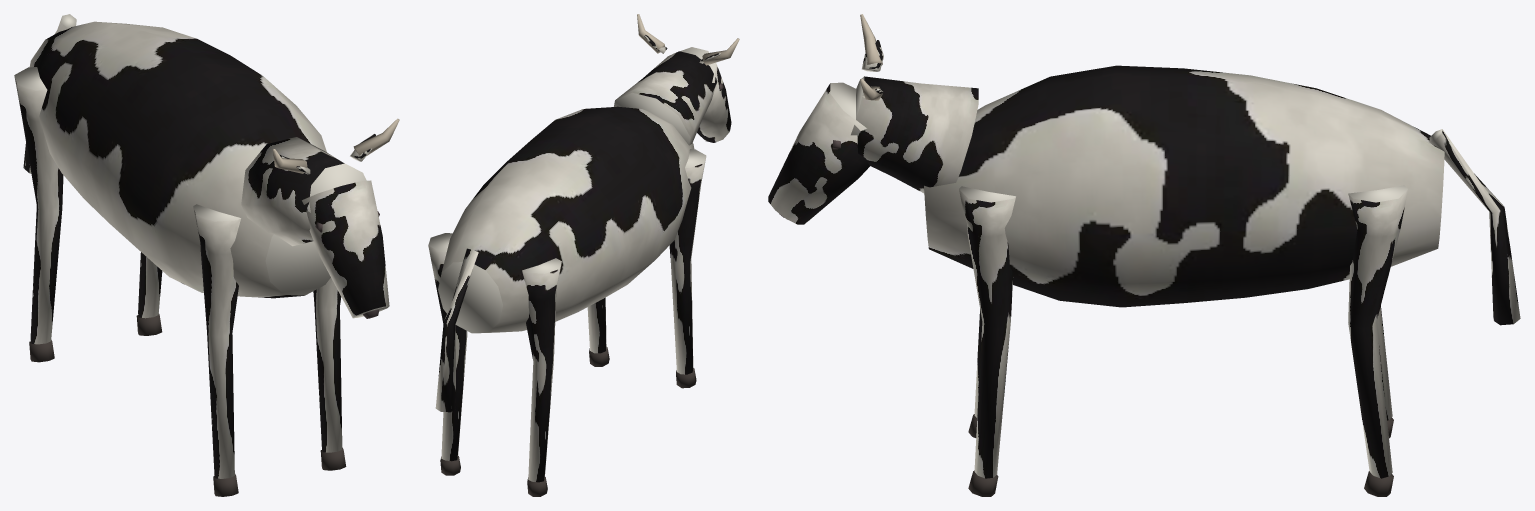
Rendered from cow.fbx.
3 views of the same model, side by side, from view 1: azimuth 30°, elevation 25°; view 2: azimuth 150°, elevation 25°; view 3: azimuth 270°, elevation 25° (orthographic). The views are drawn at different scales.
Visible parts, largest first — view 1: cow__body, cow__legFR, cow__legRR, cow__legFL, cow__legRL; view 2: cow__body, cow__legRR, cow__legFR, cow__legRL, cow__legFL; view 3: cow__body, cow__legRL, cow__legFL, cow__legRR.
Boxes of the visible parts, x1,y1,x2,y2 form: cow__body: [23, 14, 399, 318]; cow__legFR: [193, 204, 240, 496]; cow__legRR: [14, 67, 63, 362]; cow__legFL: [313, 278, 346, 470]; cow__legRL: [136, 252, 162, 335]; cow__body: [435, 14, 739, 412]; cow__legRR: [522, 258, 561, 496]; cow__legFR: [669, 149, 706, 388]; cow__legRL: [428, 233, 467, 475]; cow__legFL: [587, 297, 609, 366]; cow__body: [768, 14, 1520, 325]; cow__legRL: [1348, 185, 1407, 496]; cow__legFL: [959, 186, 1015, 496]; cow__legRR: [1376, 306, 1393, 438].
Size of the model in its own units: 0.8408 by 1.7 by 2.77.
4 materials, 1 textured.
